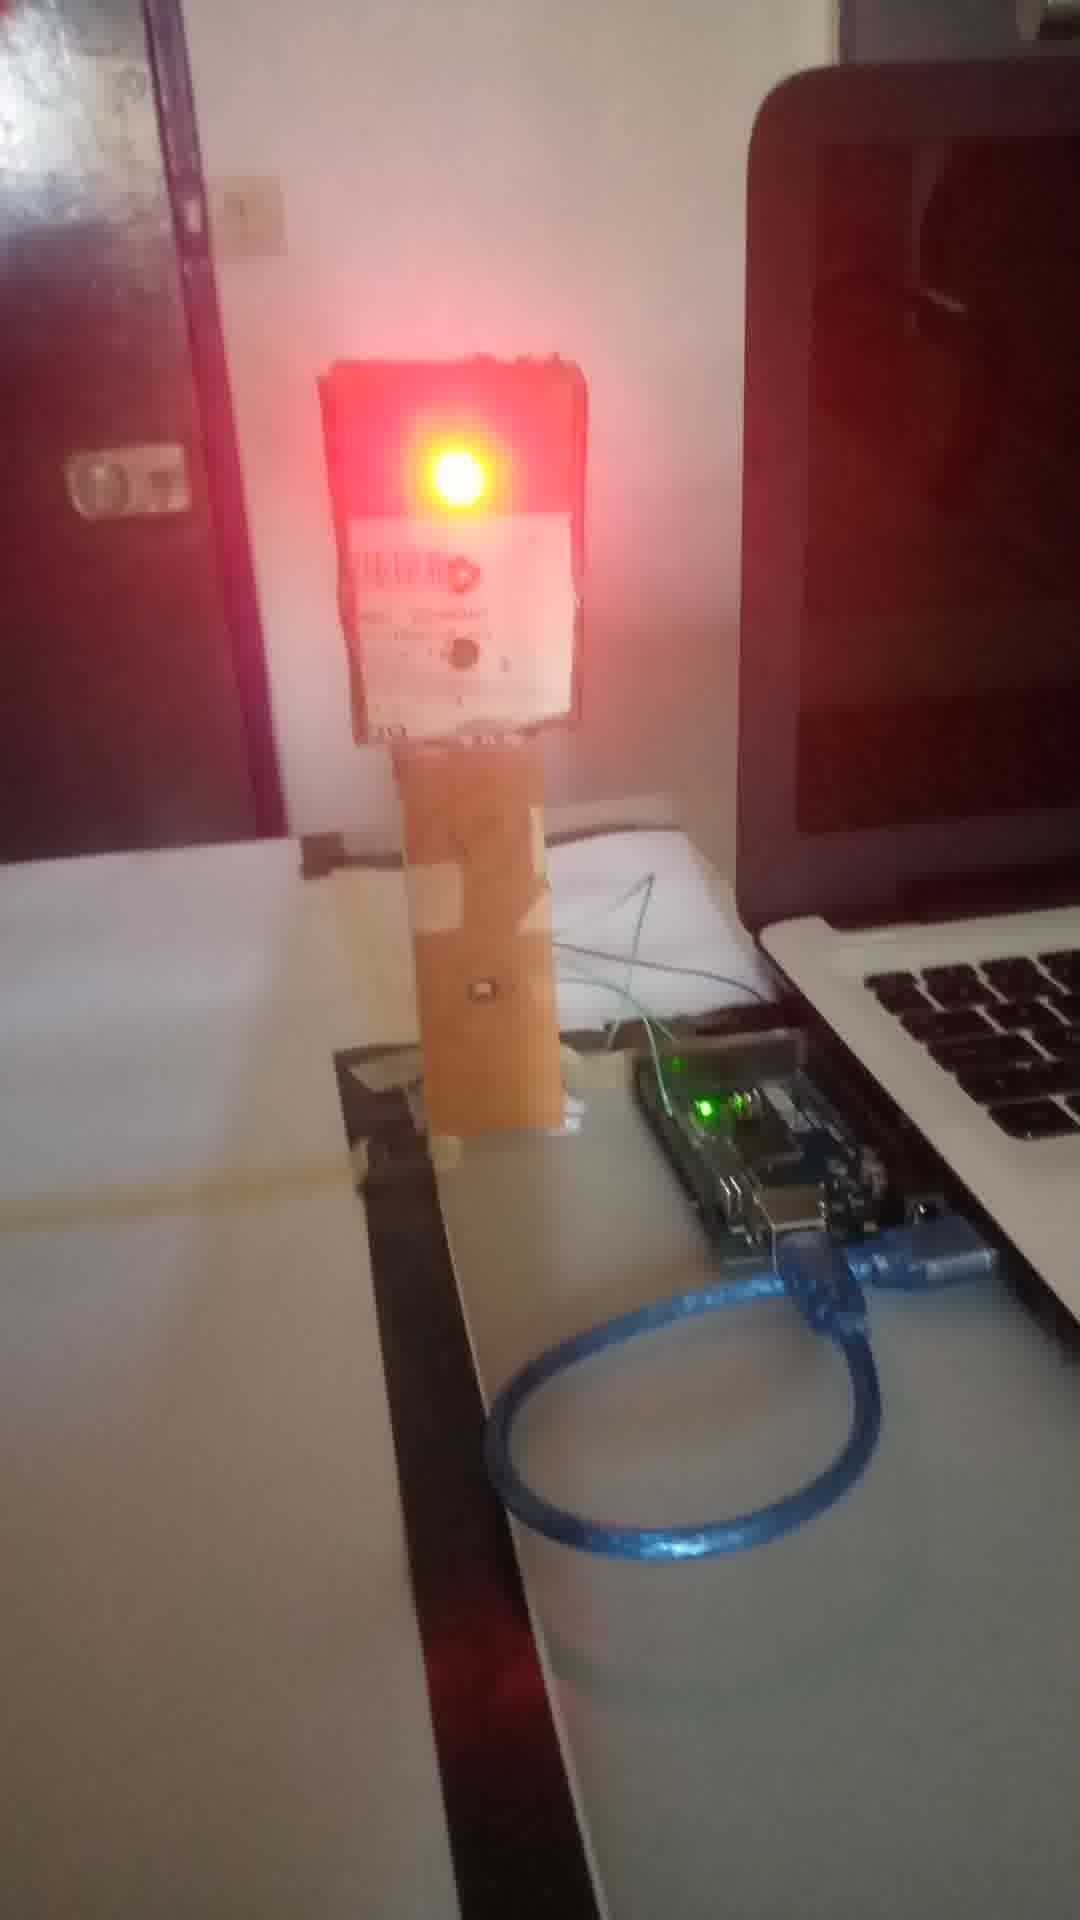red: (324, 367, 582, 737)
